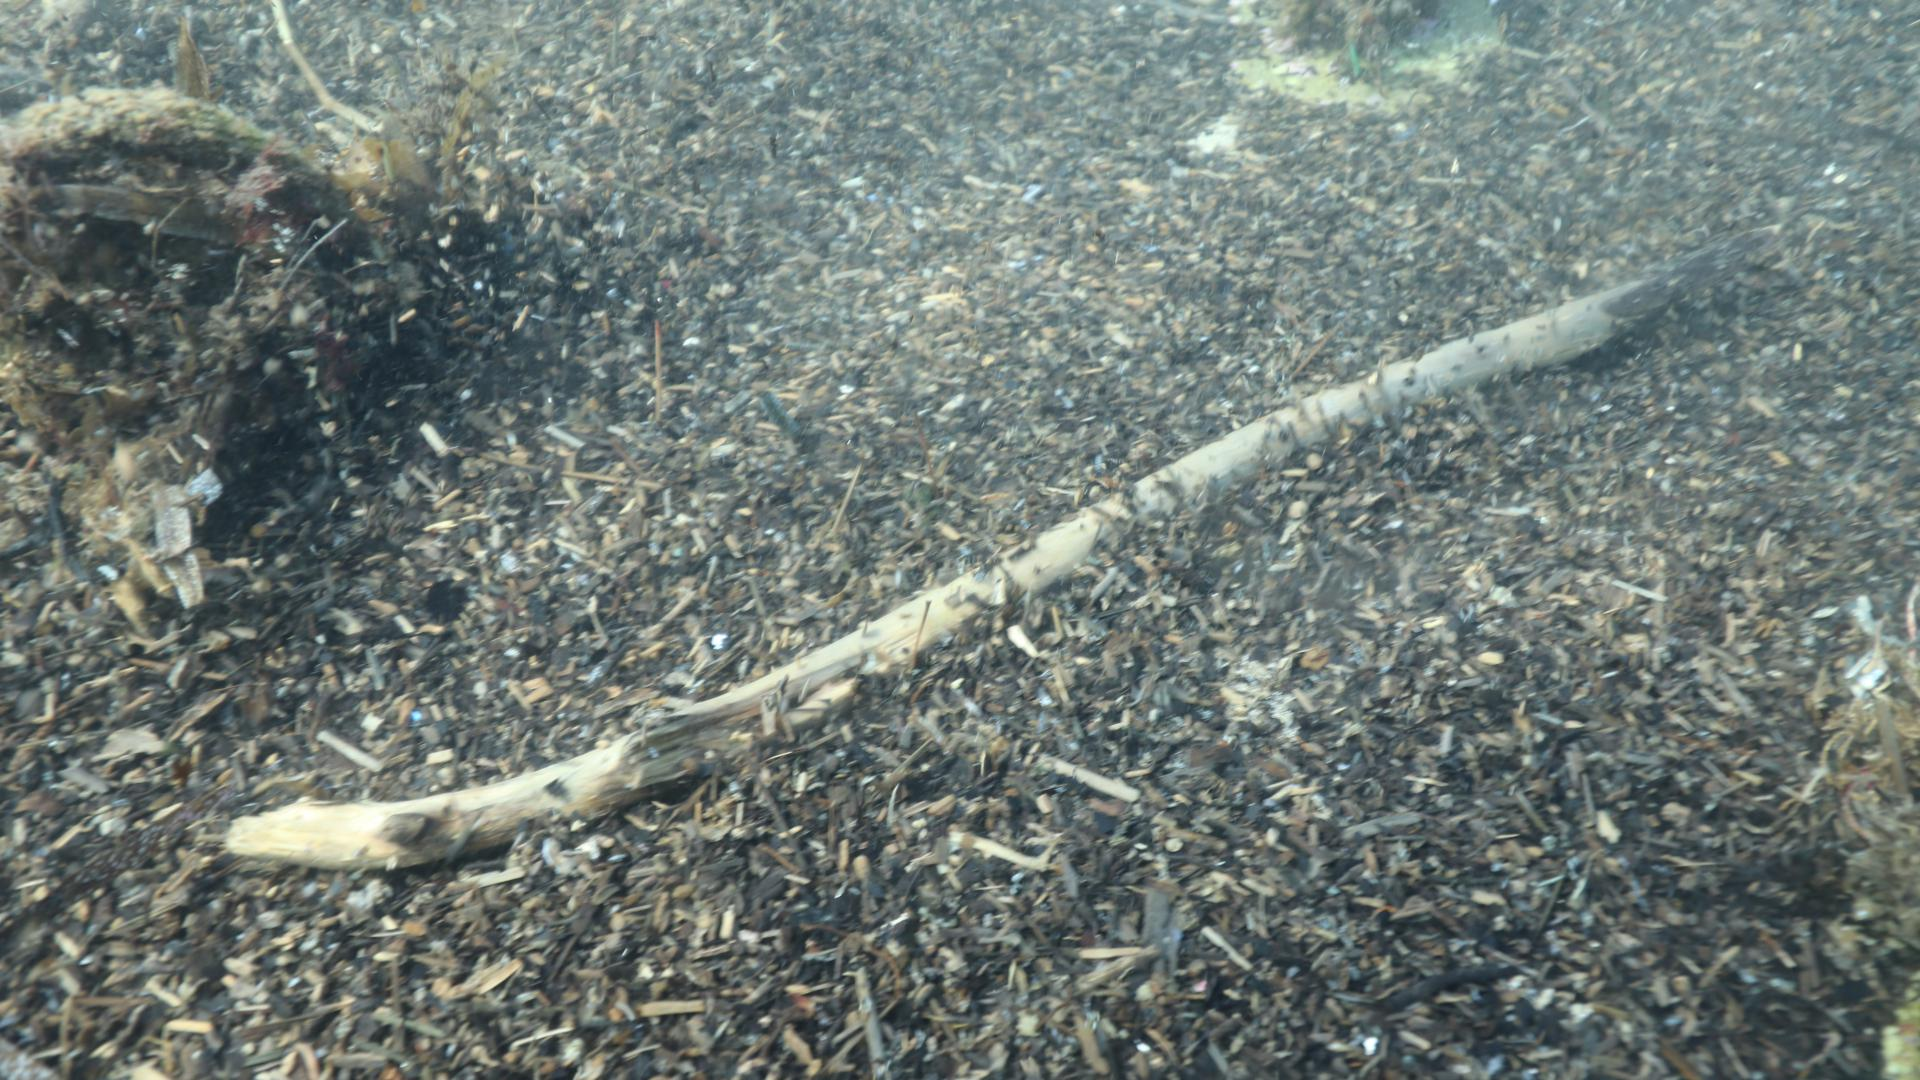wood: (222, 222, 1785, 866)
